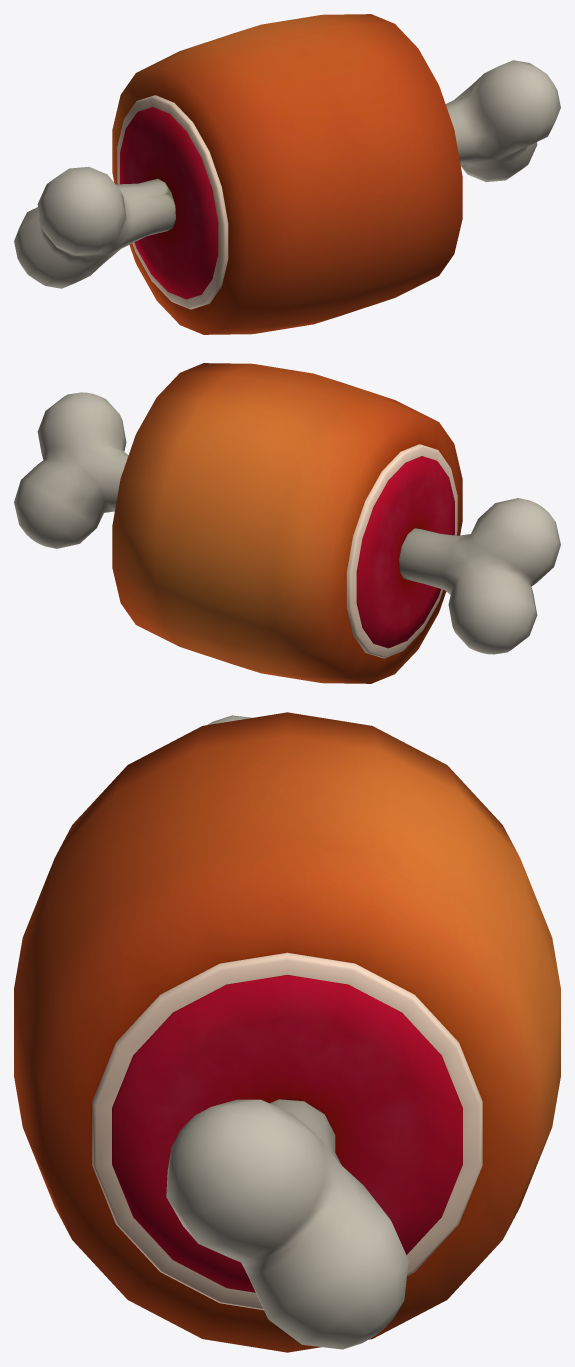
Rendered from Ham.FBX.
3 views of the same model, one above another, from view 1: azimuth 30°, elevation 25°; view 2: azimuth 150°, elevation 25°; view 3: azimuth 270°, elevation 25° (orthographic). The views are drawn at different scales.
Visible parts, largest first — view 1: Ham; view 2: Ham; view 3: Ham.
Boxes of the visible parts, x1,y1,x2,y2 form: Ham: (14,14,560,334); Ham: (14,363,560,683); Ham: (14,712,560,1352).
Bounding box in the file's own units: 39.88 × 20.82 × 20.5.
1 material, 1 textured.
